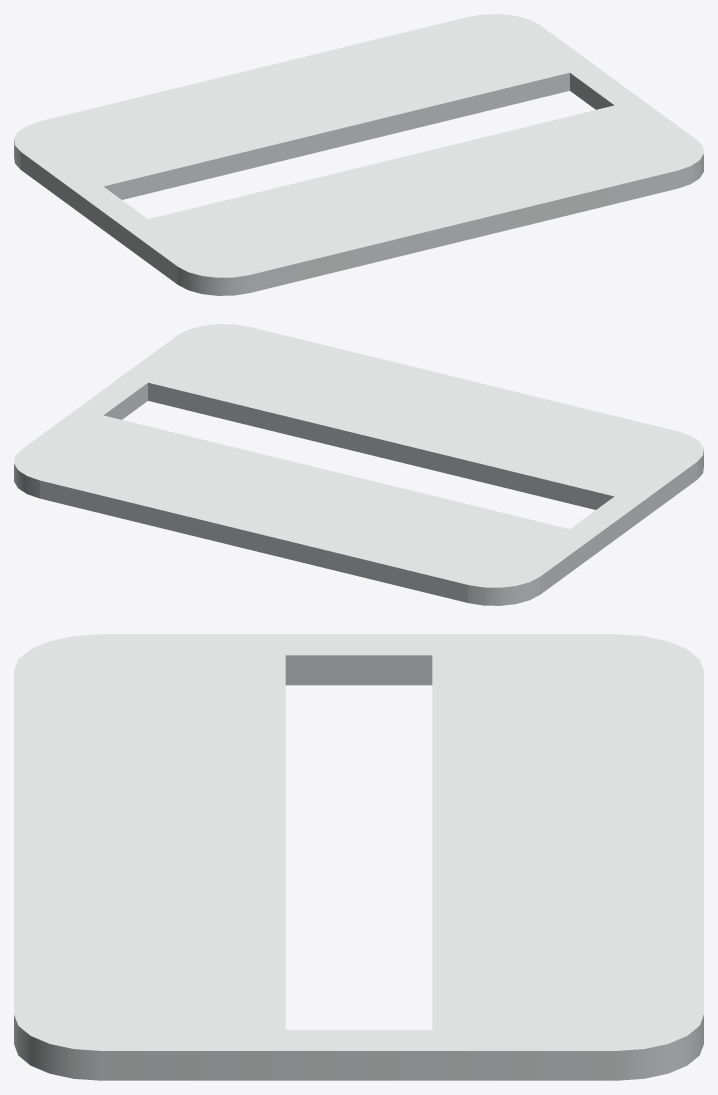
The model's file is Platform.Rounded.004.fbx.
3 views of the same model, one above another, from view 1: azimuth 30°, elevation 25°; view 2: azimuth 150°, elevation 25°; view 3: azimuth 270°, elevation 25° (orthographic). The views are drawn at different scales.
Parts seen in each view (by area): view 1: Platform.Rounded.004; view 2: Platform.Rounded.004; view 3: Platform.Rounded.004.
Boxes of the visible parts, box(x1,y1,x2,y2) form: Platform.Rounded.004: box(14, 14, 703, 295); Platform.Rounded.004: box(14, 324, 703, 605); Platform.Rounded.004: box(14, 634, 703, 1080).
Size of the model in its own units: 30 by 1 by 21.
